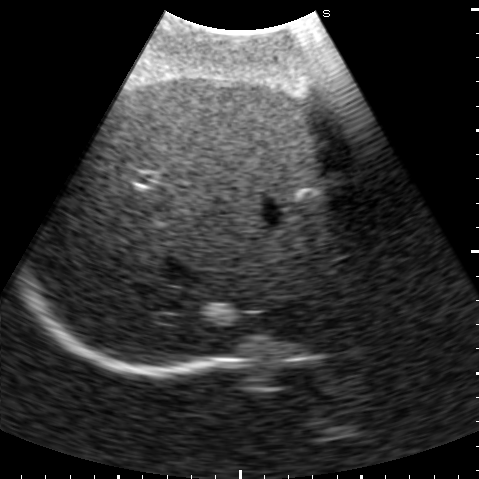S5: (113, 78, 337, 192)
S7: (44, 153, 149, 304)
S8: (97, 182, 368, 364)
Tumor: (199, 302, 236, 325)
